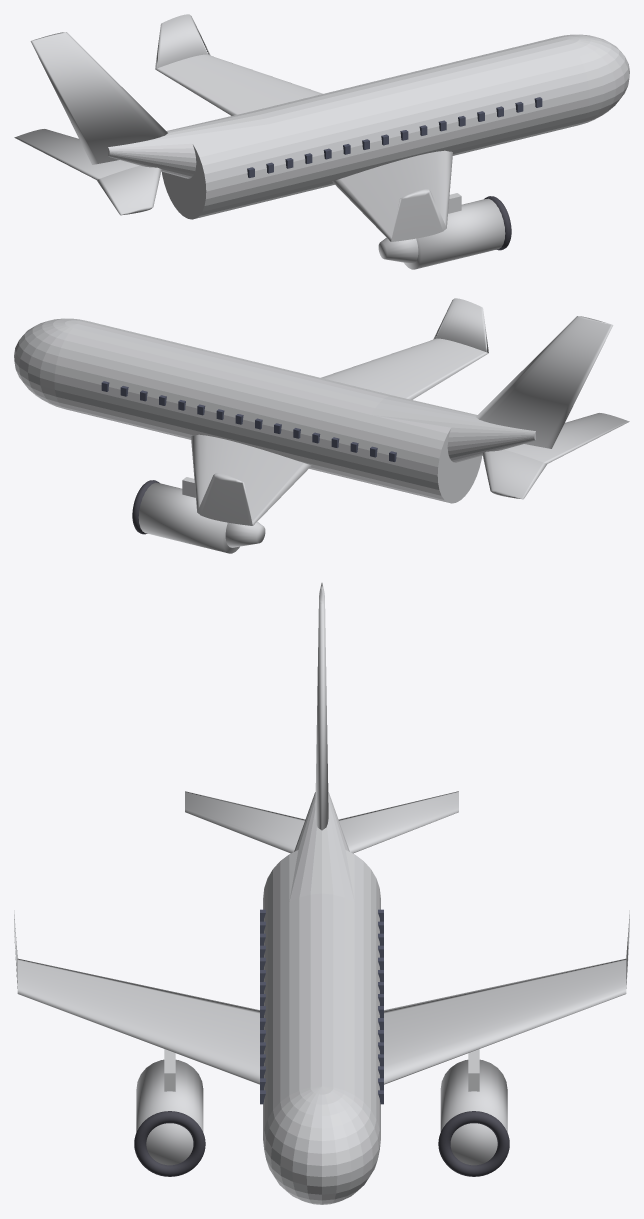
Rendered from ucak.glb.
3 renders of one model, top to bottom at view 1: azimuth 30°, elevation 25°; view 2: azimuth 150°, elevation 25°; view 3: azimuth 270°, elevation 25°, orthographic. The views are drawn at different scales.
Visible parts, largest first — view 1: Ucak; view 2: Ucak; view 3: Ucak.
Boxes of the visible parts, left/top/right/bottom form: Ucak: left=14, top=14, right=629, bottom=269; Ucak: left=14, top=298, right=629, bottom=553; Ucak: left=14, top=583, right=629, bottom=1204.
Bounding box in the file's own units: 0.95 × 0.4011 × 0.6603.
